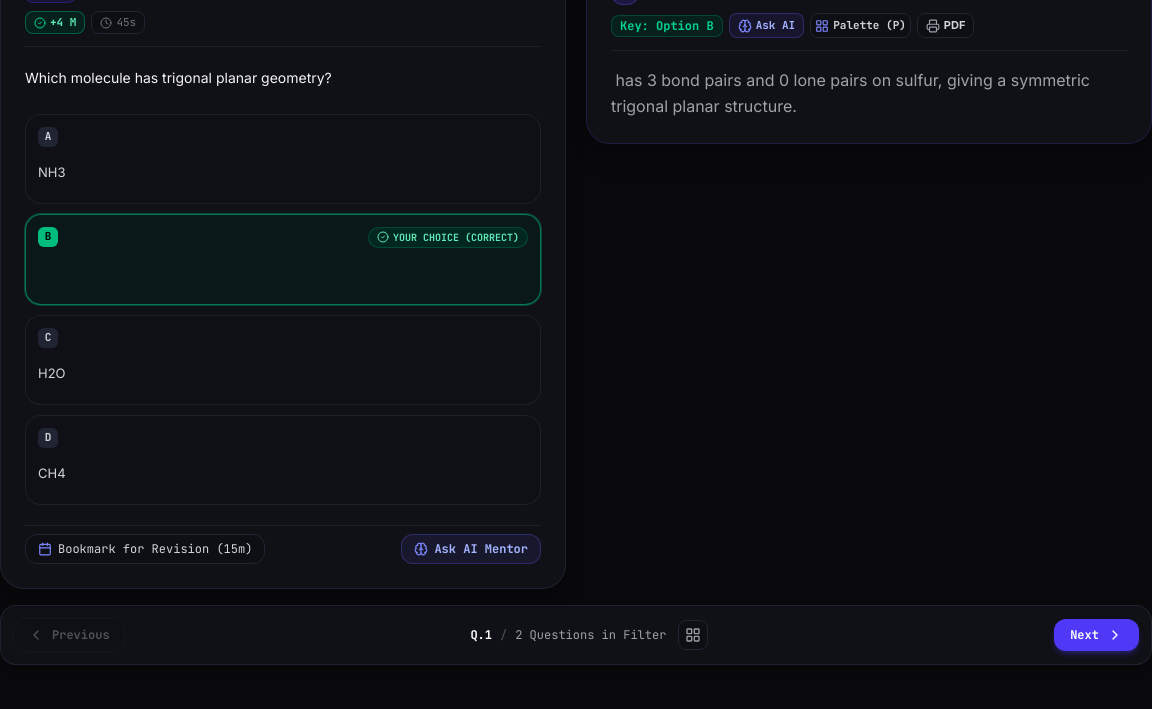
Test: MockTestResult (Revamped UI & Smart Focus) › resets activeQuestionIdx to 0 when status filter changes to prevent desync
(page scrolled)
Expected: the text "Which molecule has trigonal planar geometry?" is shown, [25,69,332,86]
# Navigate to Q2
Click the button "Next" at point(1097, 635), box [1054,619,1139,651]
(page scrolled)
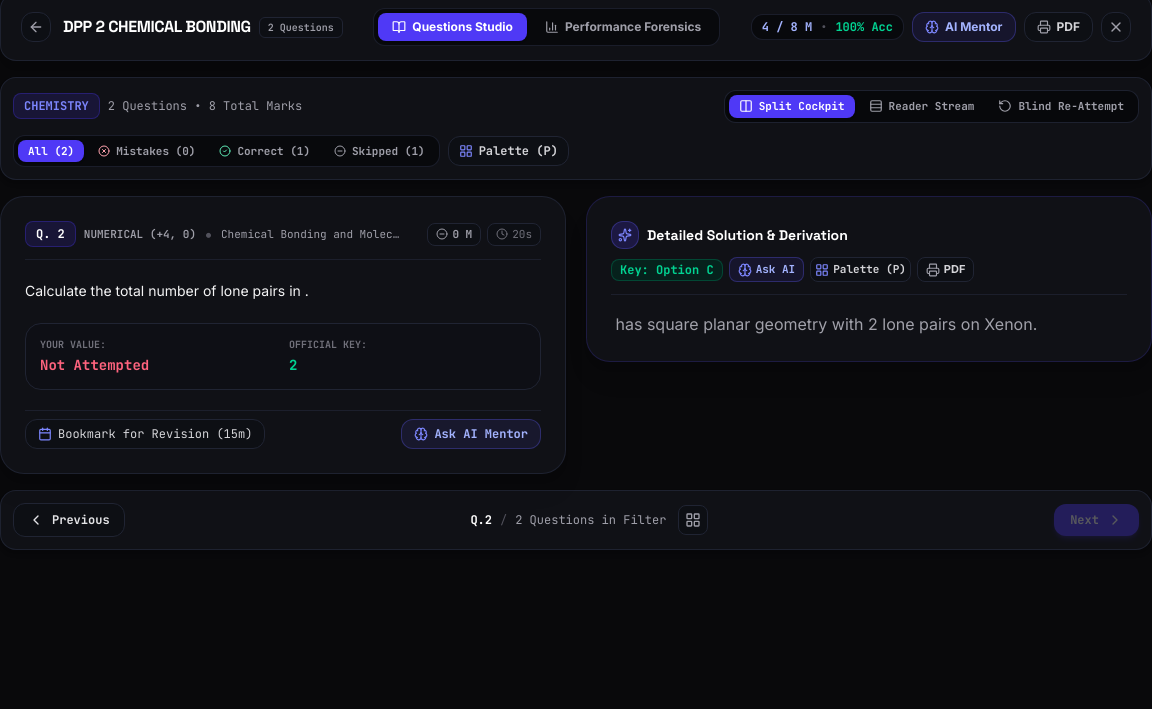
Expected: the text "Calculate the total number of lone pairs in" is shown, [25,282,305,299]
# Now filter by Correct (Q1 was Correct, Q2 was Unattempted)
Click the button "Correct (1)" at point(265, 151), box [209,140,320,162]
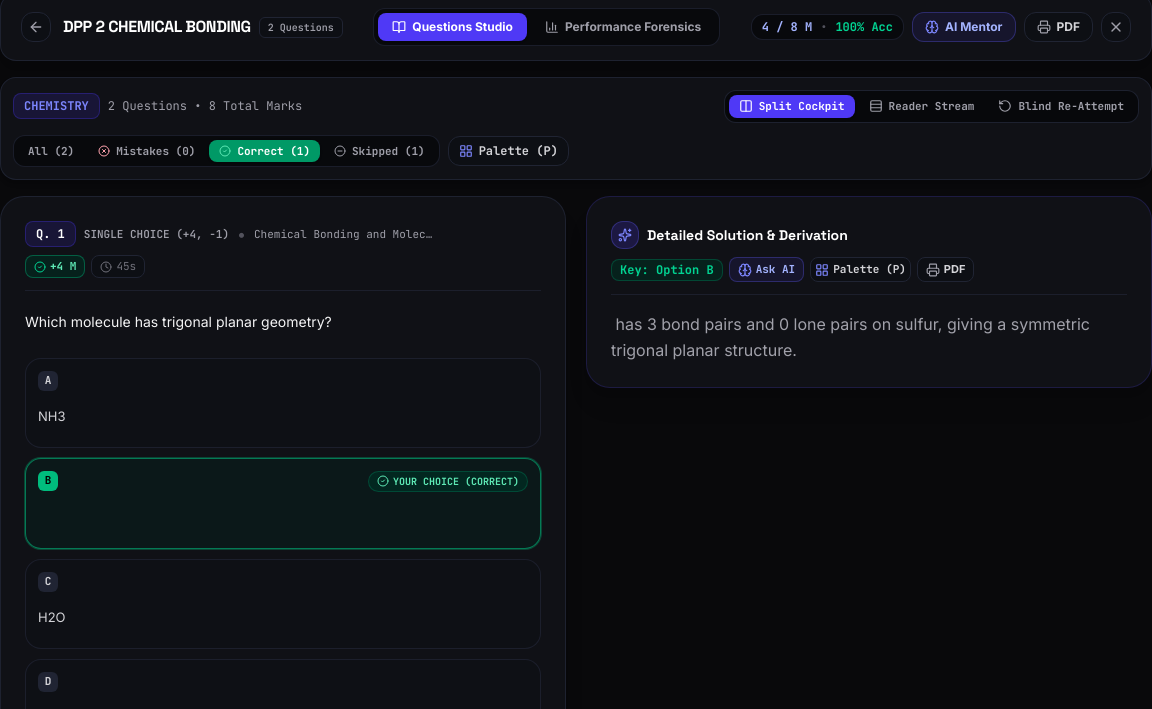
Expected: the text "Which molecule has trigonal planar geometry?" is shown, [25,313,332,330]
